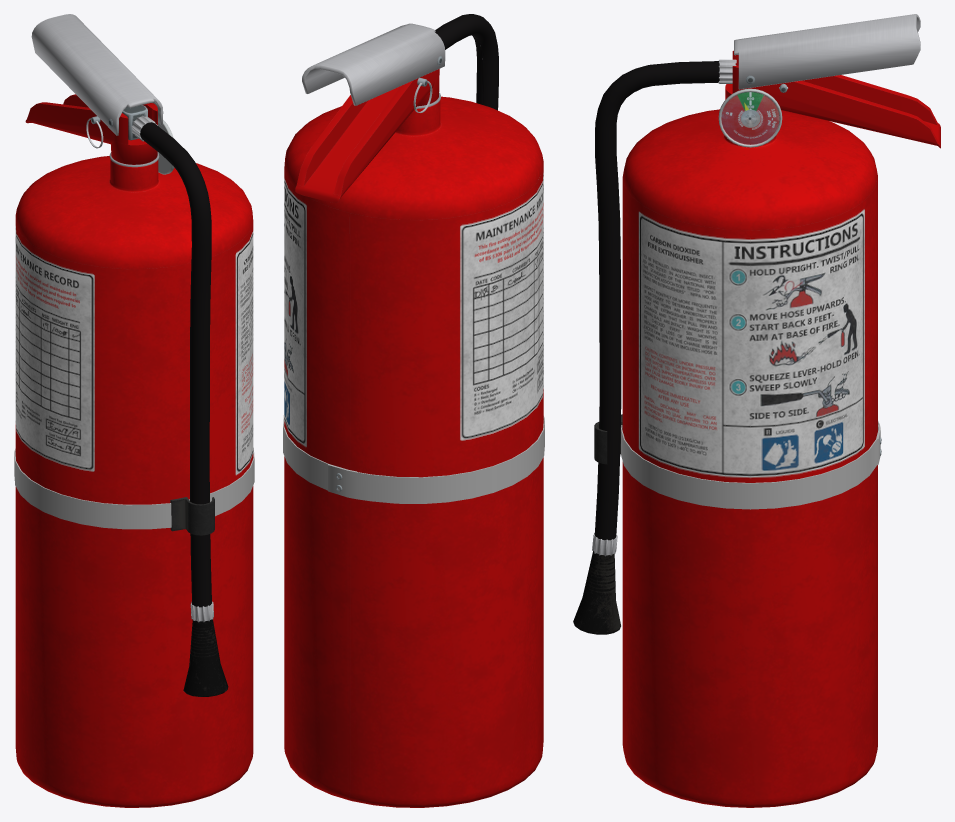
Rendered from fire_extinguisher.glb.
3 renders of one model, left to right at view 1: azimuth 30°, elevation 25°; view 2: azimuth 150°, elevation 25°; view 3: azimuth 270°, elevation 25°, orthographic. The views are drawn at different scales.
Parts seen in each view (by area): view 1: g; view 2: g; view 3: g.
Boxes of the visible parts, x1,y1,x2,y2 form: g: (14, 14, 254, 807); g: (283, 14, 544, 807); g: (573, 14, 940, 807).
Size of the model in its own units: 0.6341 by 2 by 0.9042.
3 materials, 3 textured.
